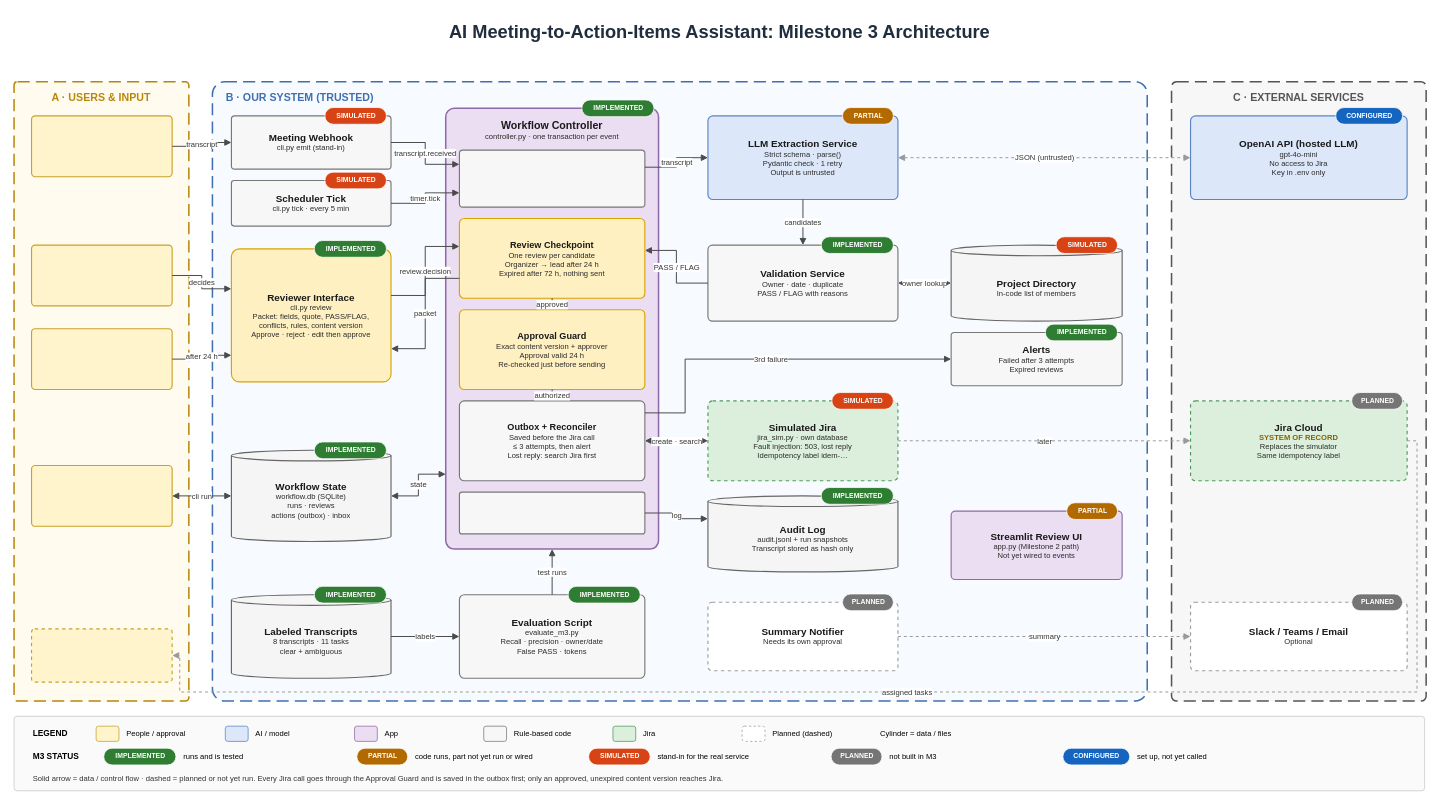
Image size: 1439x804. Some labels were removed from this diagram. Here are the shapes that lost their labels. From the top down, the centre of each, then its label:
[101,146]: Meeting Transcript UNTRUSTED INPUT Sent as a transcript event
[552,178]: Event Handler + Inbox Dedup by event_id Duplicate, late, unknown → no change
[101,275]: Meeting Organizer REVIEWER Reviews every issue Decides within 24 h
[101,359]: Project Lead ESCALATION After 24 h, 48 h more Then the review expires
[101,496]: Operator / Dev Alerts · cli run · resume Reads audit trail
[552,512]: Audit Logger audit.py
[101,655]: Task Assignees Get approved Jira tasks
